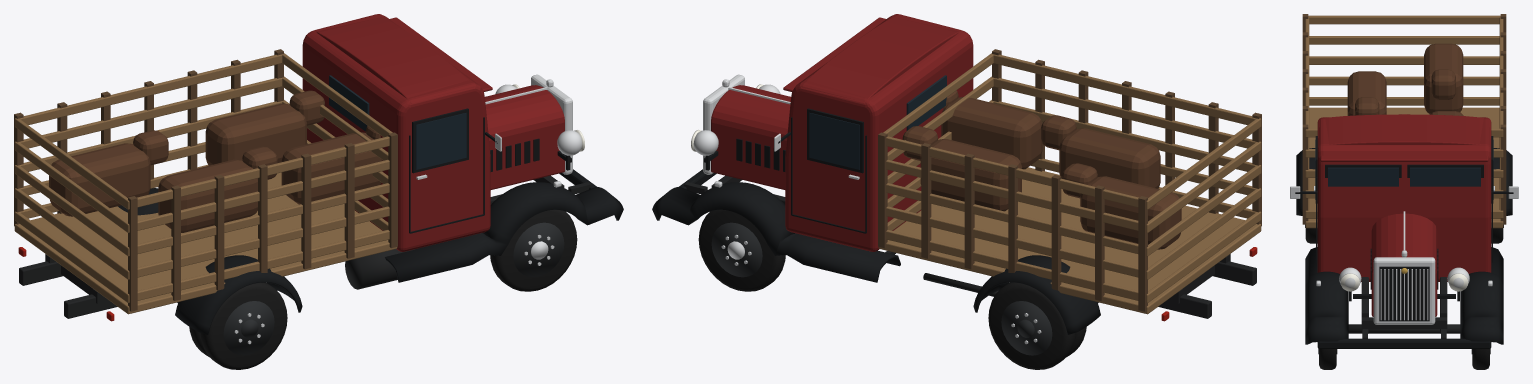
The model's file is talbott_livestock_van.glb.
3 views of the same model, side by side, from view 1: azimuth 30°, elevation 25°; view 2: azimuth 150°, elevation 25°; view 3: azimuth 270°, elevation 25° (orthographic). The views are drawn at different scales.
Parts seen in each view (by area): view 1: cabine, piso, paralama_d.001, teto_abaulado, capo, boi, boi.002, boi.001, roda_t_pneu0.001, boi.003, paralama_t.001, roda_d_pneu0.001 (+39 smaller); view 2: cabine, piso, paralama_d, teto_abaulado, capo, boi.003, boi.001, roda_t_pneu1, boi.002, boi, paralama_t, roda_d_pneu0 (+40 smaller); view 3: cabine, teto_abaulado, paralama_d.001, paralama_d, capo, radiador_colmeia, piso, boi.002, ripa_t.004, para_choque, ripa_t.003, radiador_moldura (+28 smaller).
Boxes of the visible parts, x1,y1,x2,y2 form: cabine: (302, 14, 490, 251); piso: (14, 172, 397, 314); paralama_d.001: (385, 182, 623, 282); teto_abaulado: (316, 17, 474, 103); capo: (485, 85, 564, 189); boi: (205, 103, 306, 165); boi.002: (49, 143, 150, 216); boi.001: (158, 159, 257, 232); roda_t_pneu0.001: (200, 282, 287, 369); boi.003: (281, 132, 382, 204); paralama_t.001: (175, 255, 302, 334); roda_d_pneu0.001: (490, 210, 577, 291); cabine: (785, 14, 973, 251); piso: (878, 167, 1261, 314); paralama_d: (652, 182, 900, 282); teto_abaulado: (801, 17, 959, 103); capo: (711, 85, 790, 189); boi.003: (941, 97, 1042, 169); boi.001: (1059, 128, 1160, 188); roda_t_pneu1: (988, 282, 1075, 369); boi.002: (1080, 176, 1181, 249); boi: (920, 139, 1021, 211); paralama_t: (973, 255, 1100, 334); roda_d_pneu0: (698, 210, 785, 291); cabine: (1317, 117, 1491, 281); teto_abaulado: (1318, 114, 1490, 147); paralama_d.001: (1305, 247, 1348, 344); paralama_d: (1460, 247, 1503, 344); capo: (1371, 213, 1437, 316); radiador_colmeia: (1379, 266, 1429, 321); piso: (1305, 107, 1503, 228); boi.002: (1424, 43, 1463, 114); ripa_t.004: (1308, 15, 1500, 24); para_choque: (1317, 338, 1491, 348); ripa_t.003: (1309, 36, 1499, 44); radiador_moldura: (1373, 257, 1435, 324).
Bounding box in the file's own units: 5.69 × 2.34 × 2.45.
